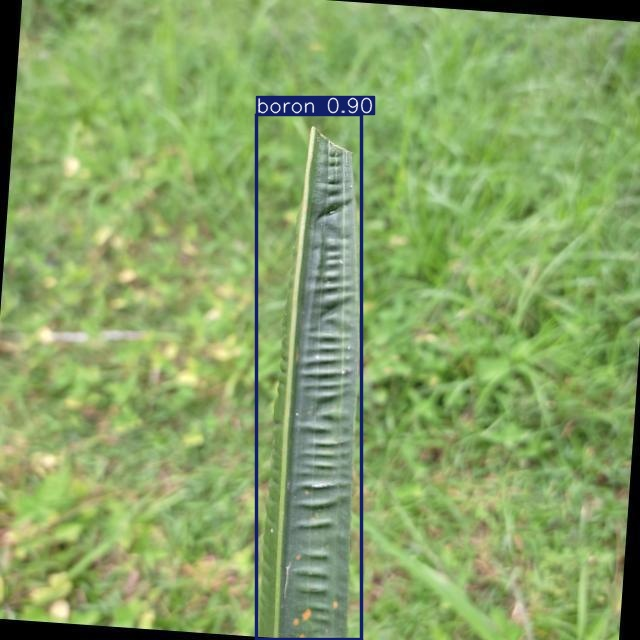nitrogen: (256, 115, 361, 639)
